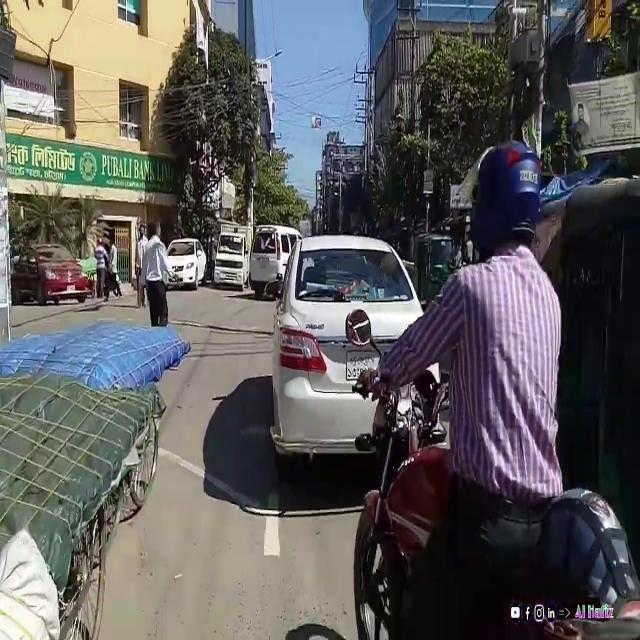white: (270, 227, 437, 475)
